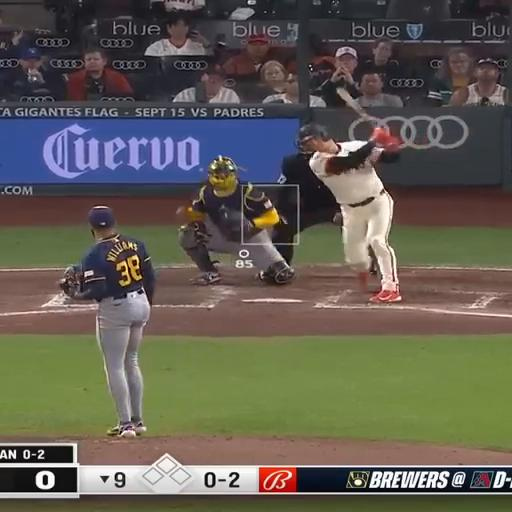bat: (336, 88, 377, 126)
